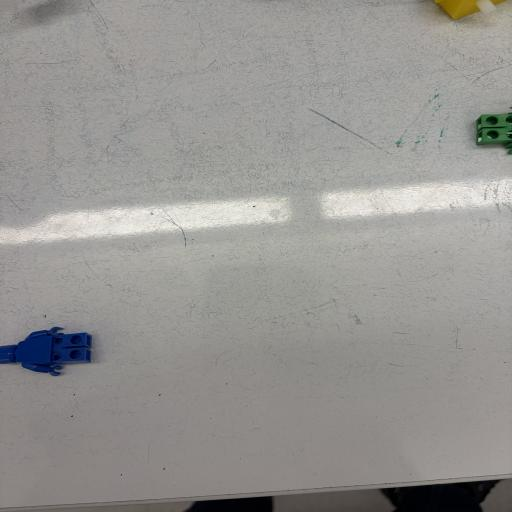Blue-Lego: (0, 327, 92, 376)
Green-Lego: (476, 112, 512, 155)
